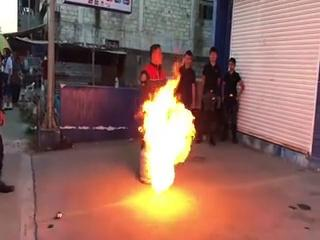Fire: (138, 72, 198, 195)
